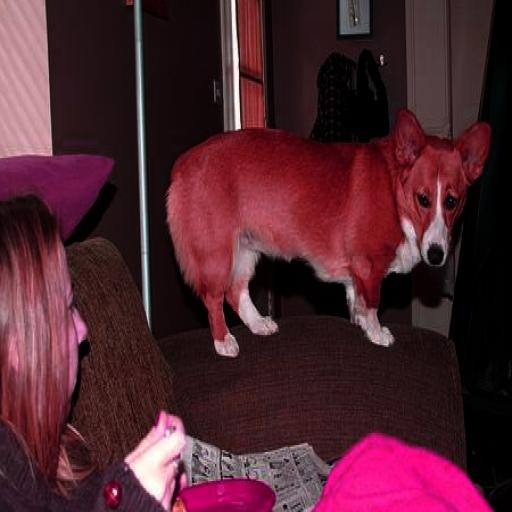dog_face: (390, 106, 483, 264)
